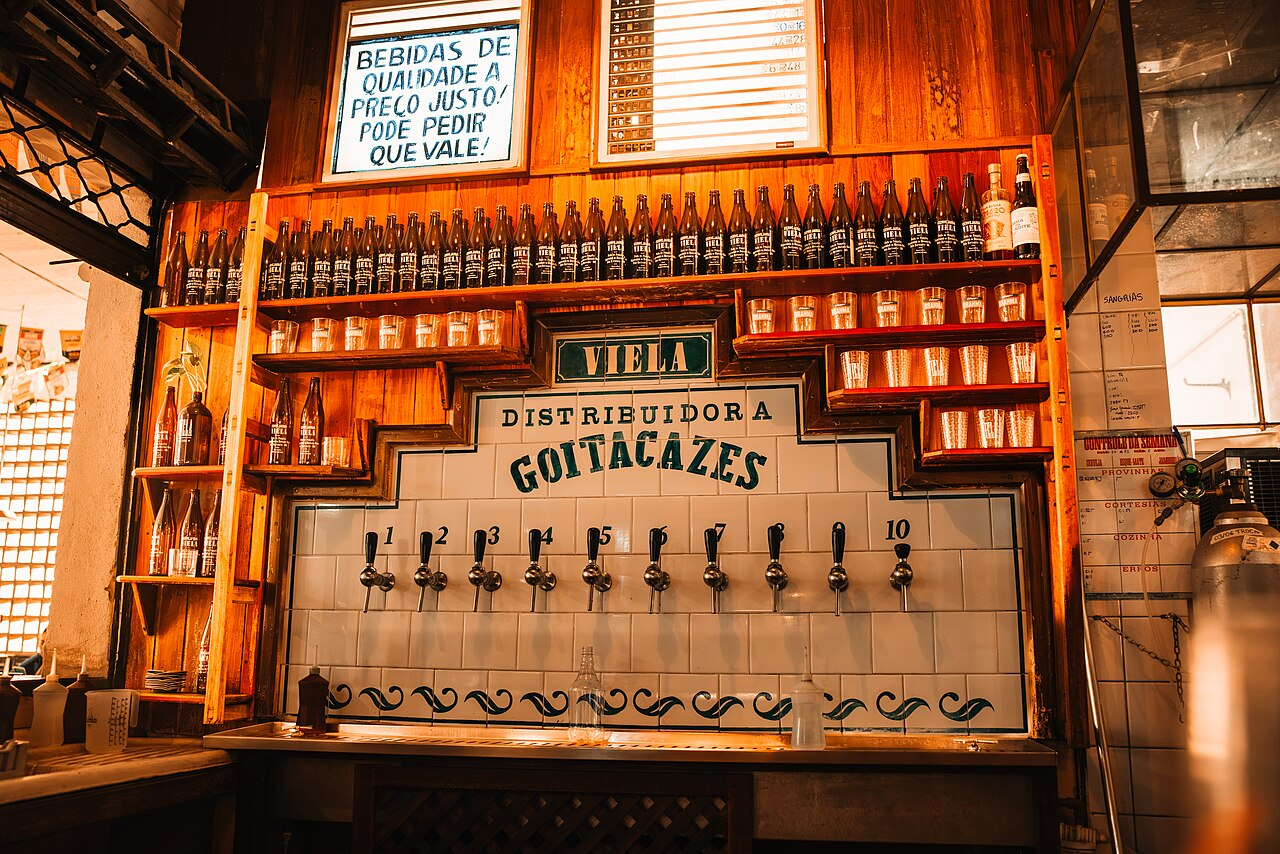unknown_bottle: (569, 645, 609, 748), (982, 163, 1013, 261), (1011, 155, 1039, 260), (931, 175, 960, 263), (853, 181, 881, 269), (297, 376, 324, 466), (906, 177, 933, 266), (628, 194, 655, 278), (880, 180, 906, 267), (557, 201, 584, 284), (653, 193, 679, 278), (778, 183, 803, 271), (727, 189, 753, 273), (269, 378, 294, 465), (752, 185, 777, 271), (802, 183, 827, 269), (604, 196, 629, 281), (535, 201, 560, 286), (580, 199, 605, 282), (828, 183, 852, 269), (702, 190, 726, 275), (677, 192, 701, 277)
